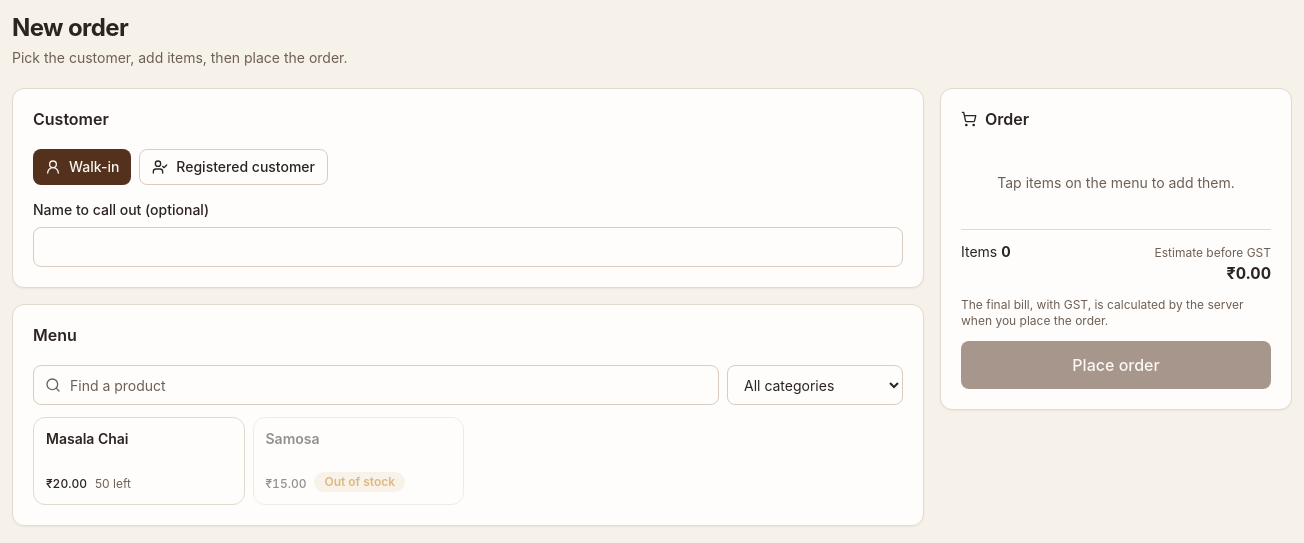
Test: POS › places a walk-in order, then shows the token slip without prices or totals for a cashier
The width and height of the screenshot is (1304, 543).
Step 1. Click the button "Masala Chai ₹20.00 50 left" → (139, 461), box [33, 417, 244, 505]
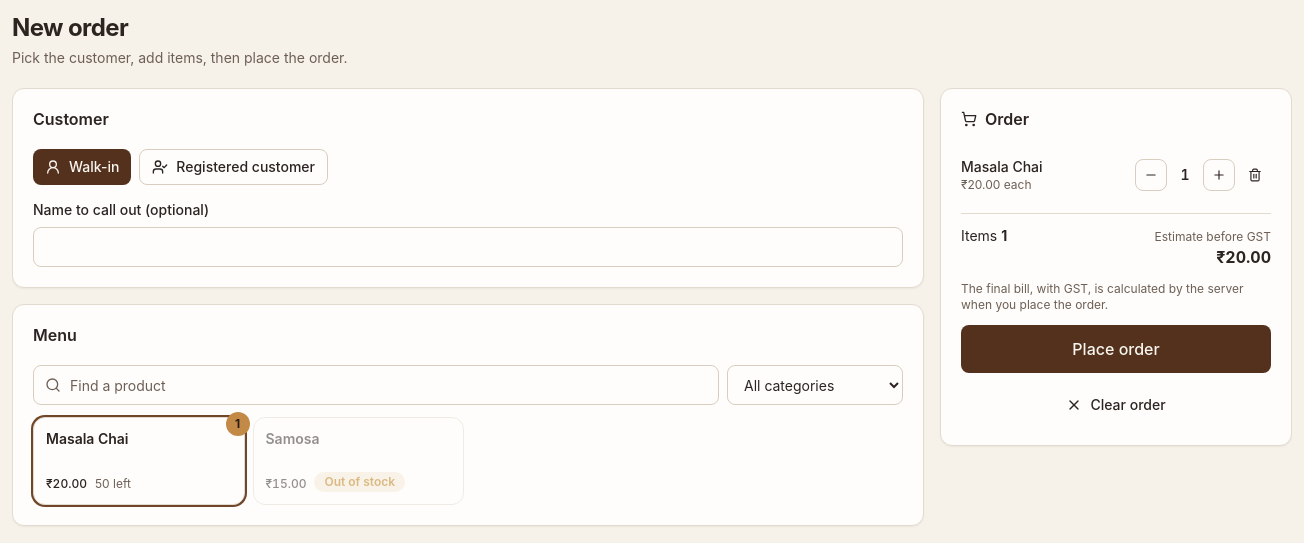
Step 2. Click the button "Masala Chai ₹20.00 50 left 1" → (139, 461), box [33, 417, 244, 505]
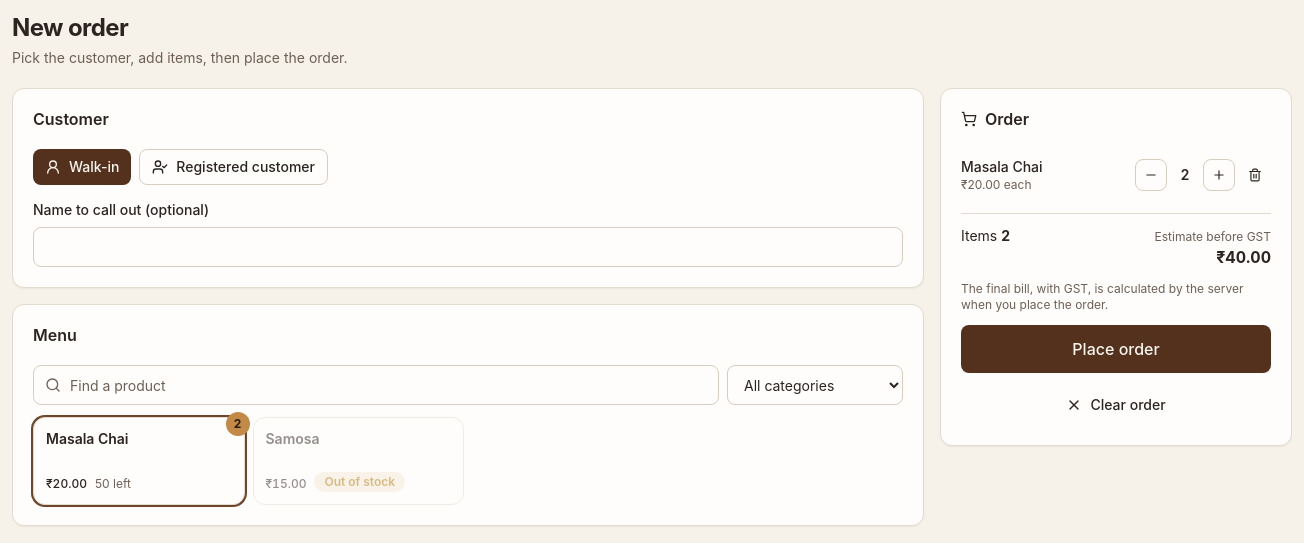
Step 3. Type "Ravi" into the field labelled "Name to call out (optional)" → (468, 247), box [33, 227, 903, 267]
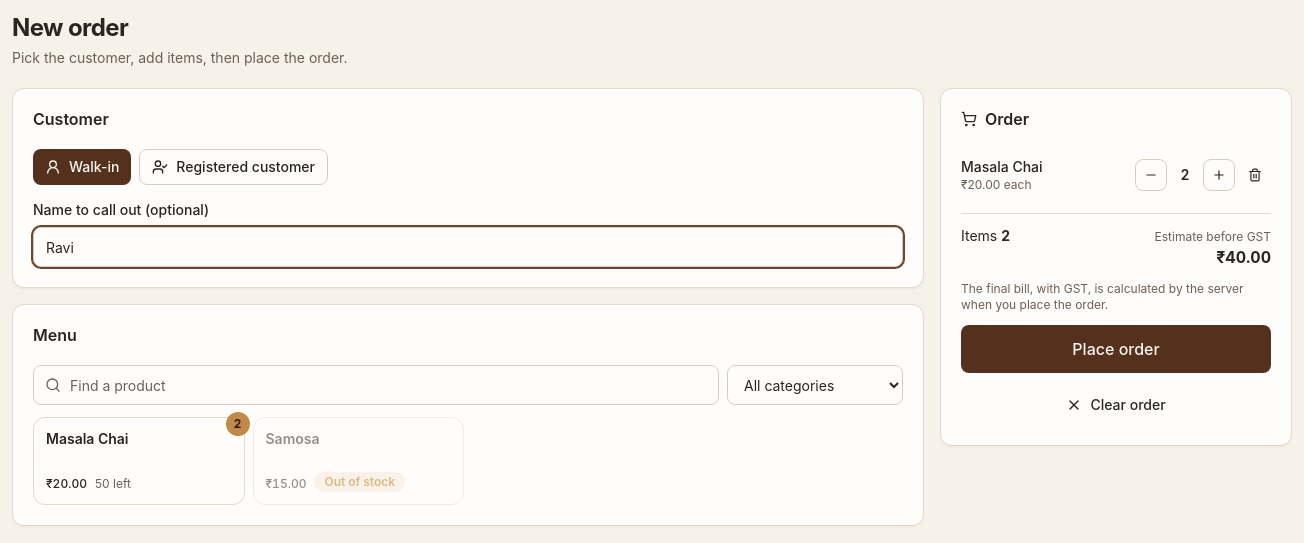
Step 4. Click the button "Place order" → (1116, 349), box [961, 325, 1271, 373]
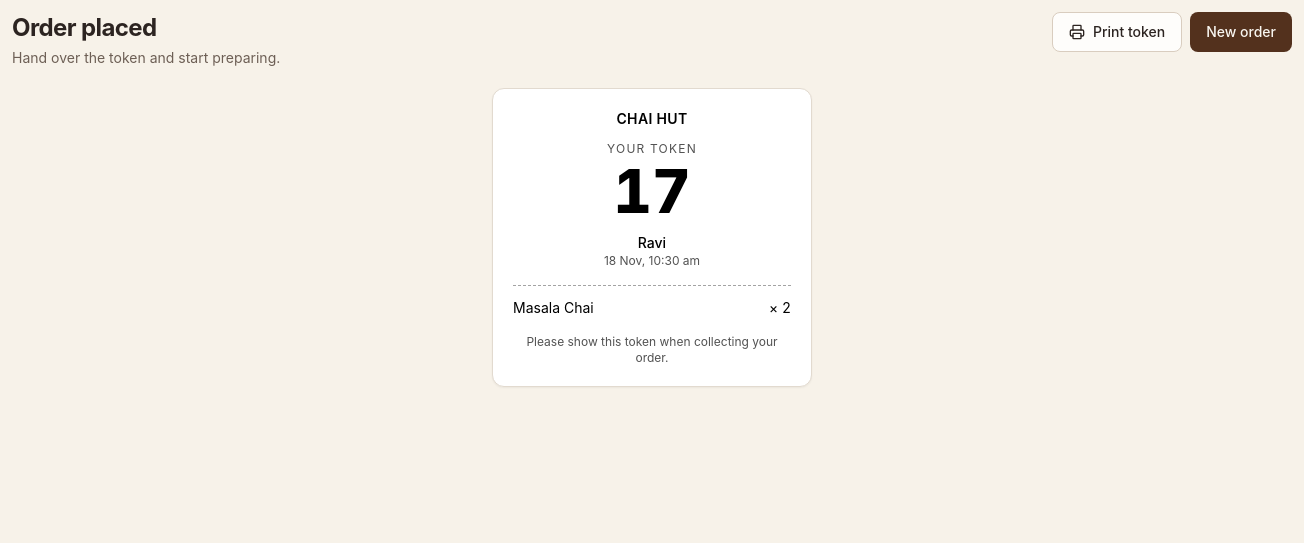
Now the text named "Token 17" is shown, box [613, 155, 691, 227]
Now the text "Ravi" is shown, box [638, 234, 666, 251]
Now the text "Masala Chai" is shown, box [513, 298, 594, 318]
